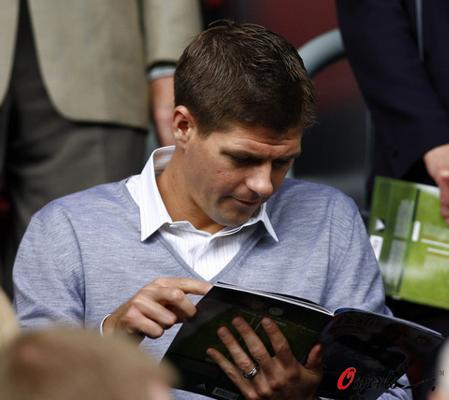person: (13, 22, 414, 400)
